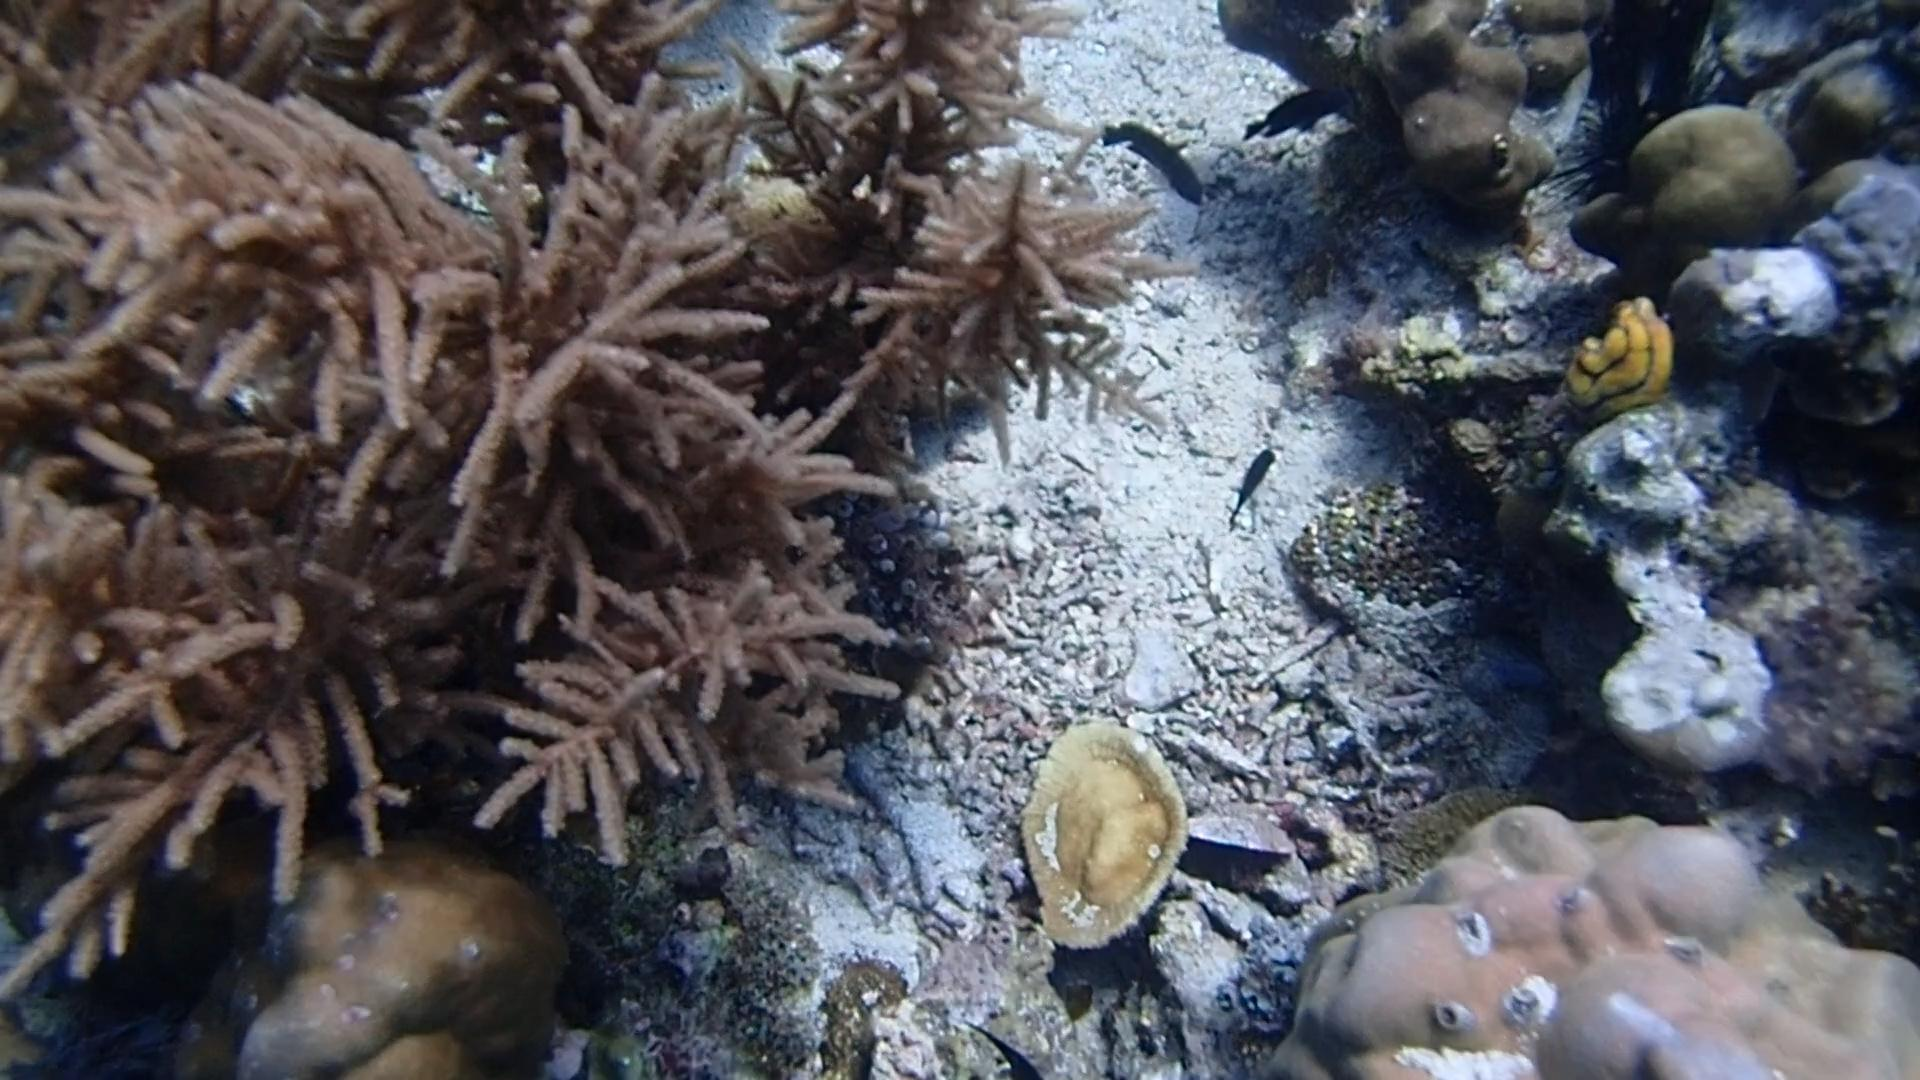Dark Fish: (1095, 115, 1211, 210), (1233, 74, 1360, 142), (1209, 440, 1287, 524)
